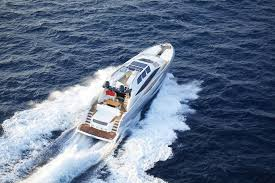tau_dansu: (86, 33, 176, 149)
